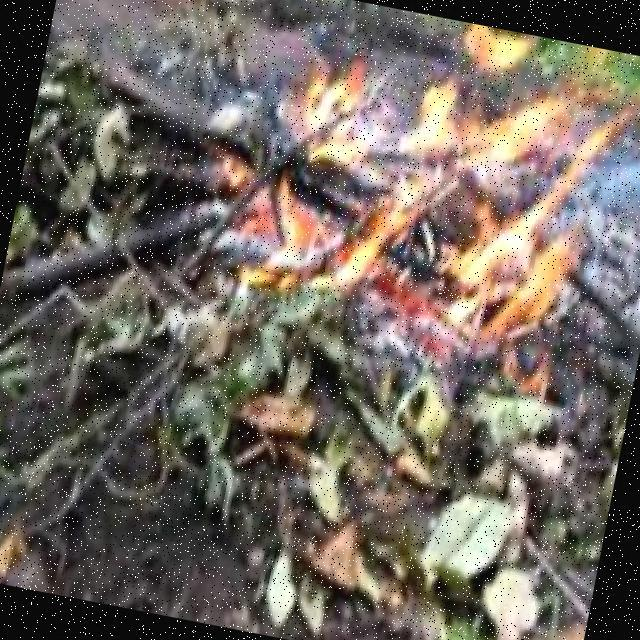Fire: (371, 75, 640, 350), (241, 175, 383, 307), (297, 54, 391, 204)
